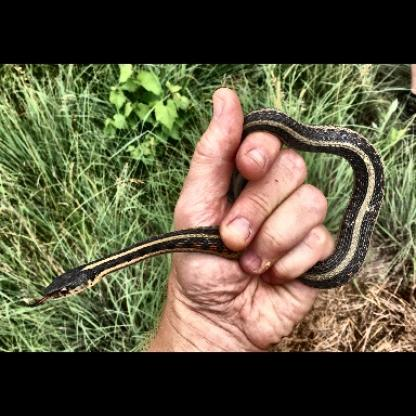Snake: (182, 102, 389, 291), (30, 242, 134, 309)
